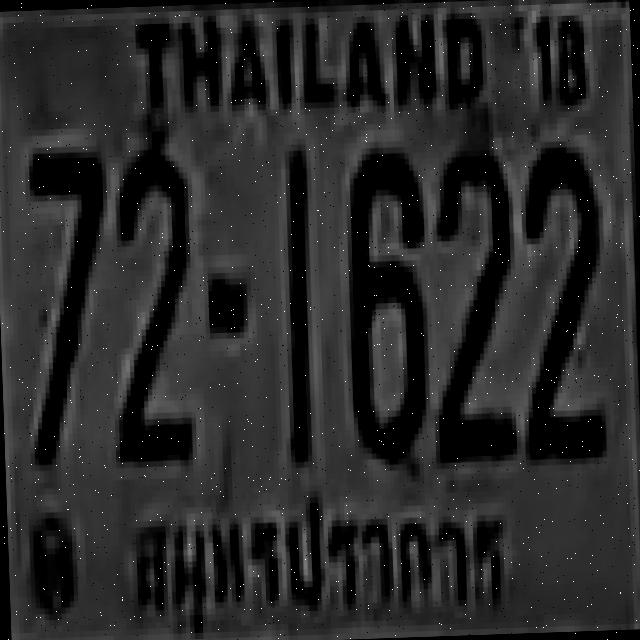1: (280, 147, 310, 411)
2: (516, 140, 604, 423), (428, 140, 516, 418), (111, 143, 193, 420), (516, 194, 602, 454), (519, 140, 600, 399), (430, 220, 514, 457), (108, 232, 192, 456)
6: (340, 144, 428, 456)
7: (24, 145, 111, 447), (23, 145, 108, 369), (23, 146, 108, 340)
SamutPrakan: (118, 489, 513, 624)
